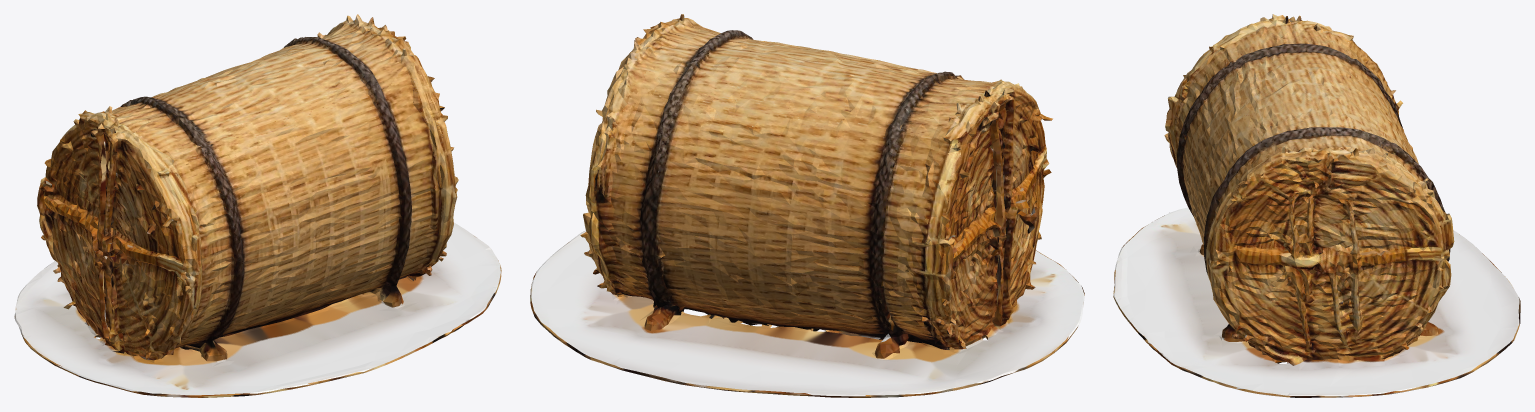
The model's file is traveler_env_coast_hoshi_rice_bale_00001_.glb.
3 renders of one model, left to right at view 1: azimuth 30°, elevation 25°; view 2: azimuth 150°, elevation 25°; view 3: azimuth 270°, elevation 25°, orthographic. The views are drawn at different scales.
Parts seen in each view (by area): view 1: temp_mesh.ply; view 2: temp_mesh.ply; view 3: temp_mesh.ply.
Part boxes in pixels (x1,y1,x2,y2): temp_mesh.ply: (14,14,501,397); temp_mesh.ply: (530,14,1084,397); temp_mesh.ply: (1113,14,1520,397).
Size of the model in its own units: 1.97 by 1.01 by 1.67.
1 material, 1 textured.
